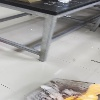fire: (62, 81, 99, 99)
